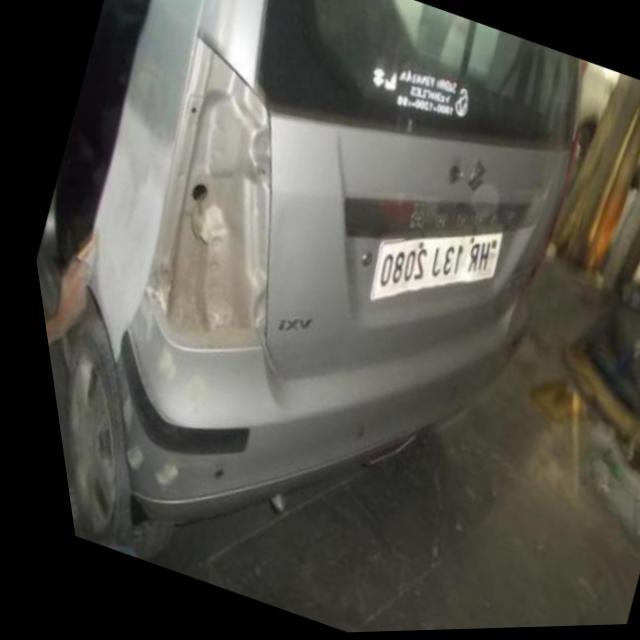dent: (86, 123, 170, 364)
lamp broken: (139, 37, 265, 353)
